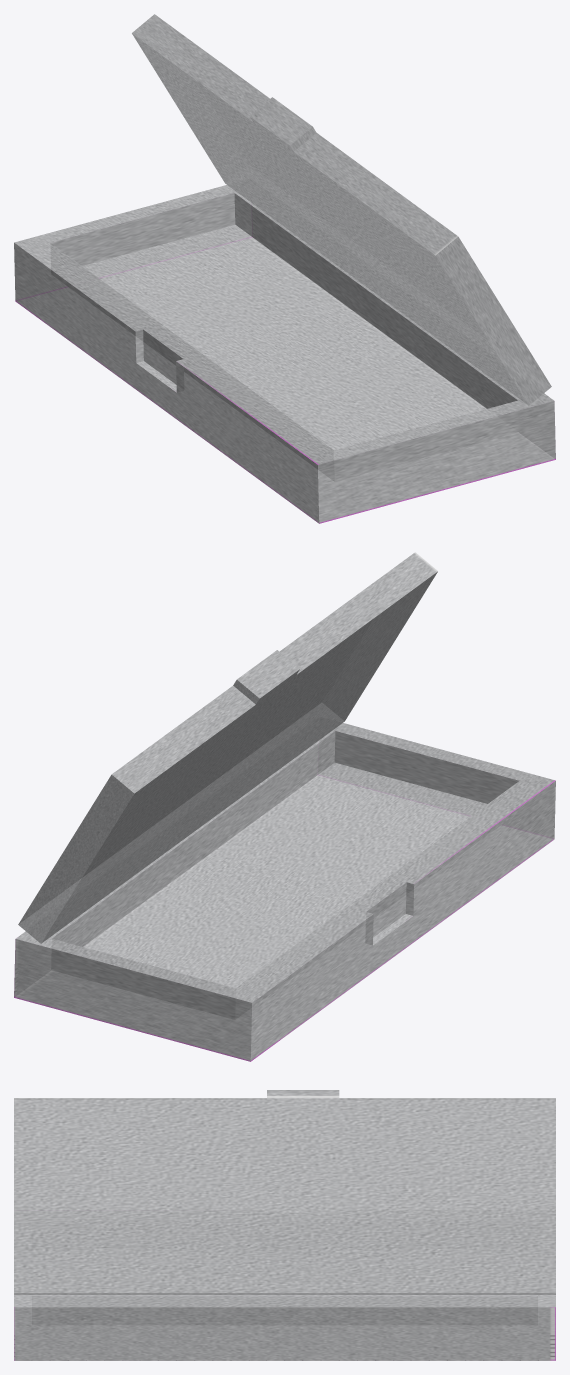
The model's file is 鉛筆盒.fbx.
The picture shows the model from 3 angles, top to bottom: view 1: azimuth 30°, elevation 25°; view 2: azimuth 150°, elevation 25°; view 3: azimuth 270°, elevation 25°; orthographic projection. The views are drawn at different scales.
Parts seen in each view (by area): view 1: Box001, Object001; view 2: Box001, Object001; view 3: Object001, Box001.
Part boxes in pixels (x1,y1,x2,y2): Box001: (14,185,555,523); Object001: (132,14,551,405); Box001: (14,723,555,1061); Object001: (18,552,437,943); Object001: (14,1090,555,1294); Box001: (14,1295,555,1360).
Size of the model in its own units: 3.56 by 3.72 by 7.87.
Materials: 2 (2 with a texture image).
